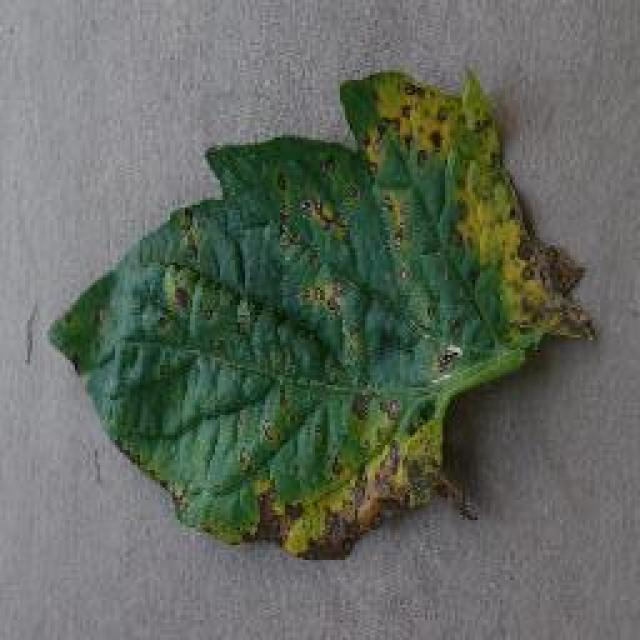Tomato Early blight leaf: (64, 95, 591, 550)
